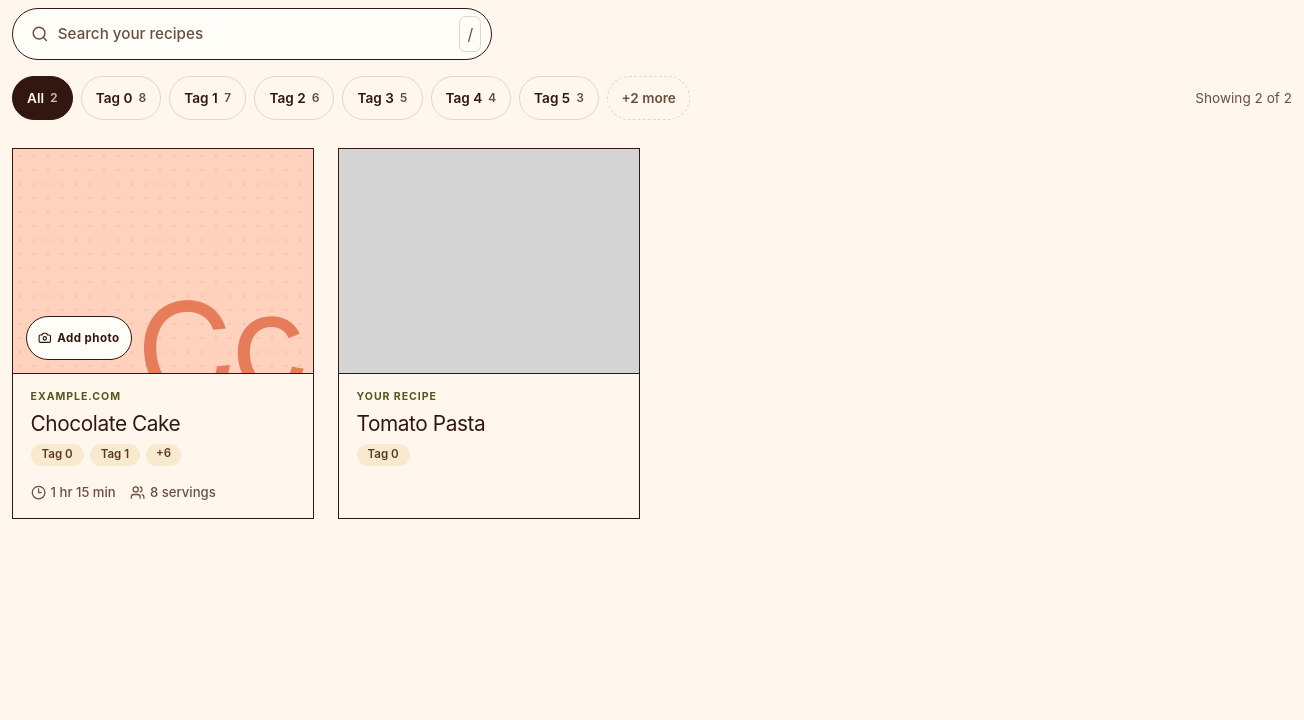
Test: RecipeList › expands tags and keeps a selected overflow tag visible after collapsing
Expected: the button "Tag 7 1" is not shown
Click the button "+2 more": click(649, 98) [607, 76, 690, 120]
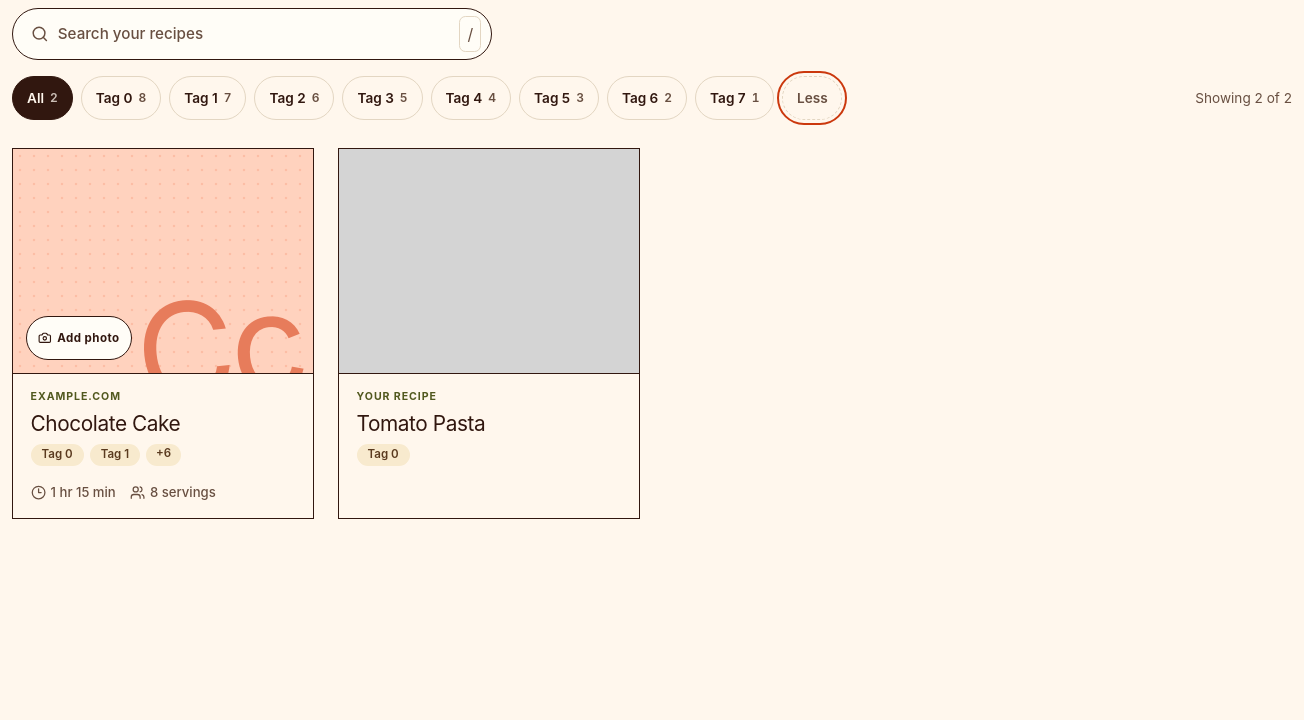
Click the button "Tag 7 1": click(735, 98) [695, 76, 774, 120]
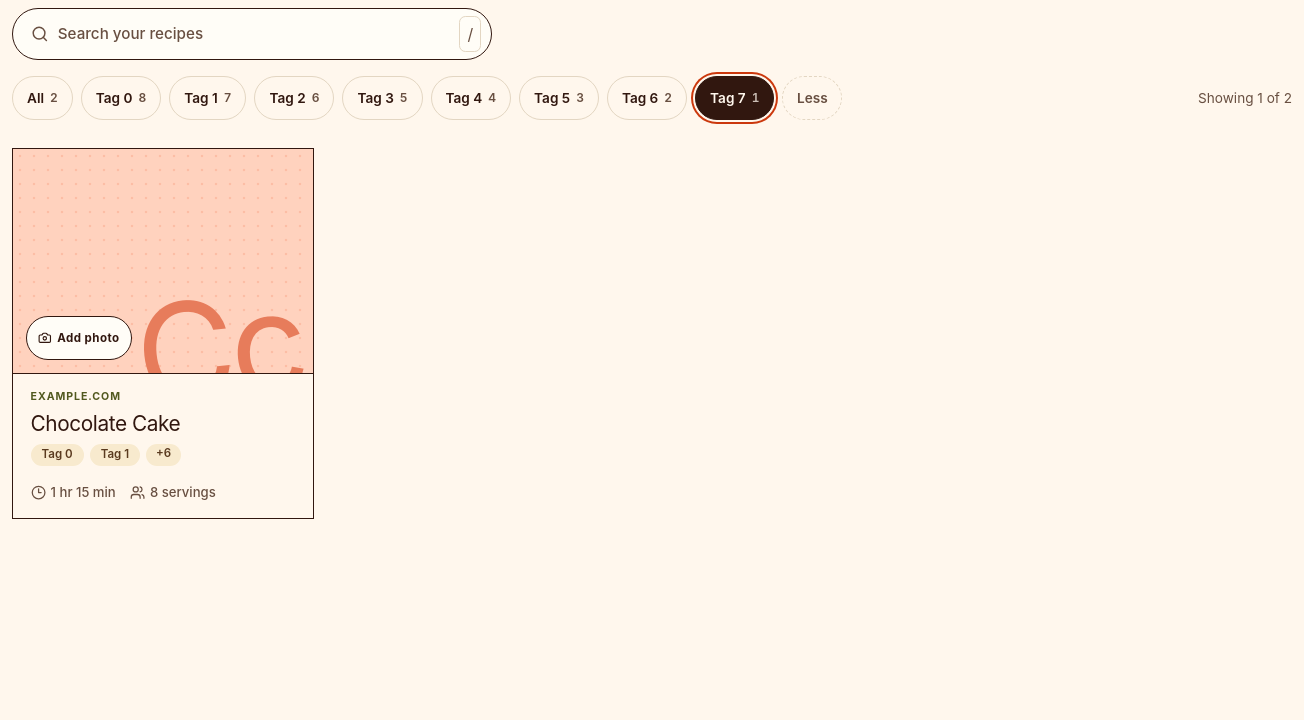
Click the button "Less": click(812, 98) [782, 76, 842, 120]
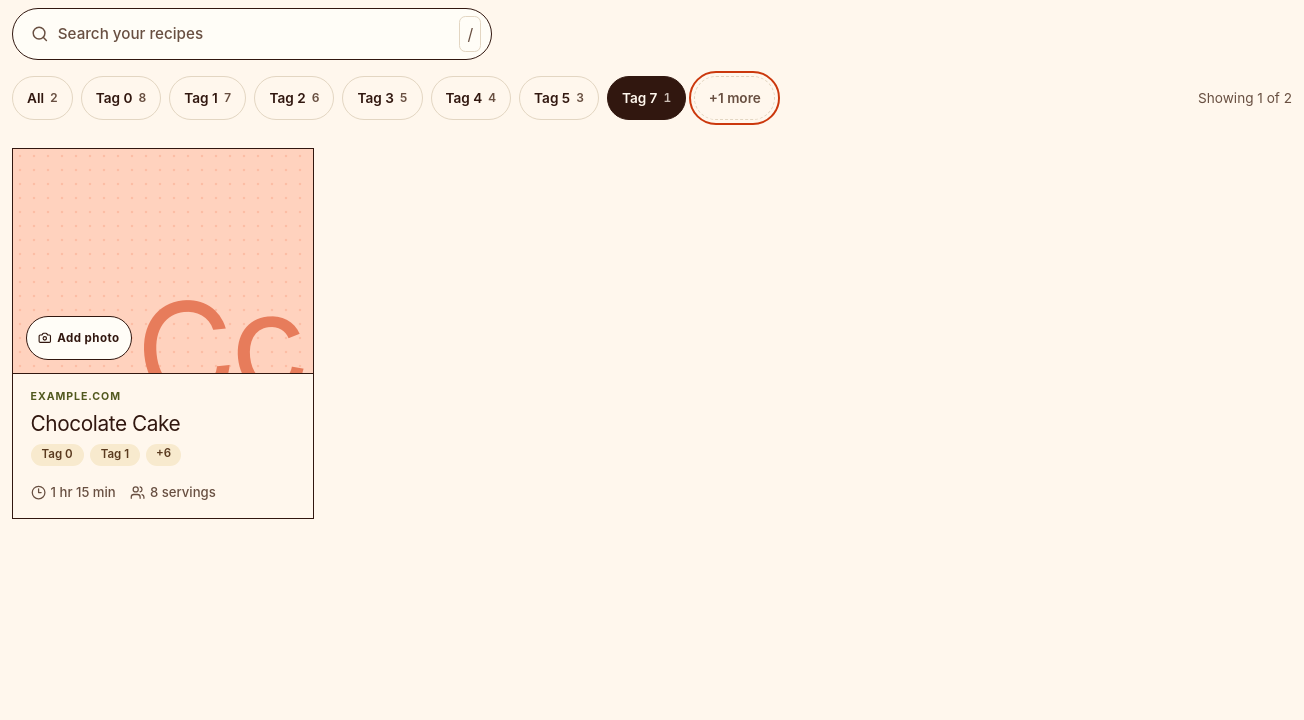
Result: the message reads "Showing 1 of 2" at [1198, 88, 1292, 108]
Result: the button "+1 more" is shown at [694, 76, 775, 120]
Click the button "All 2": click(42, 98) [12, 76, 73, 120]
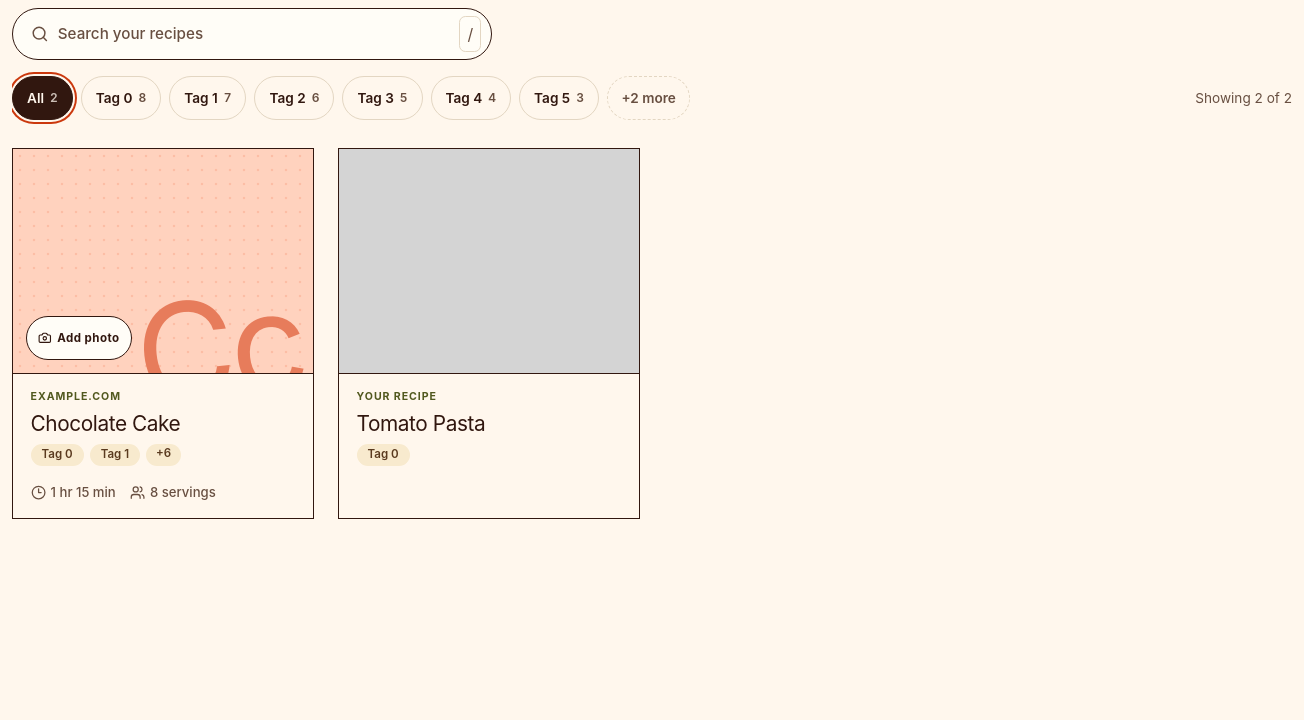
Result: the message reads "Showing 2 of 2" at [1195, 88, 1292, 108]
